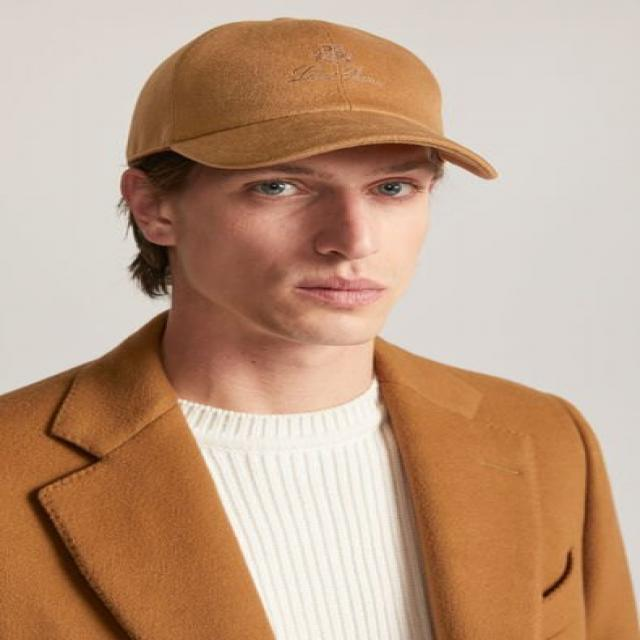suspicious-objects: (126, 17, 497, 179)
